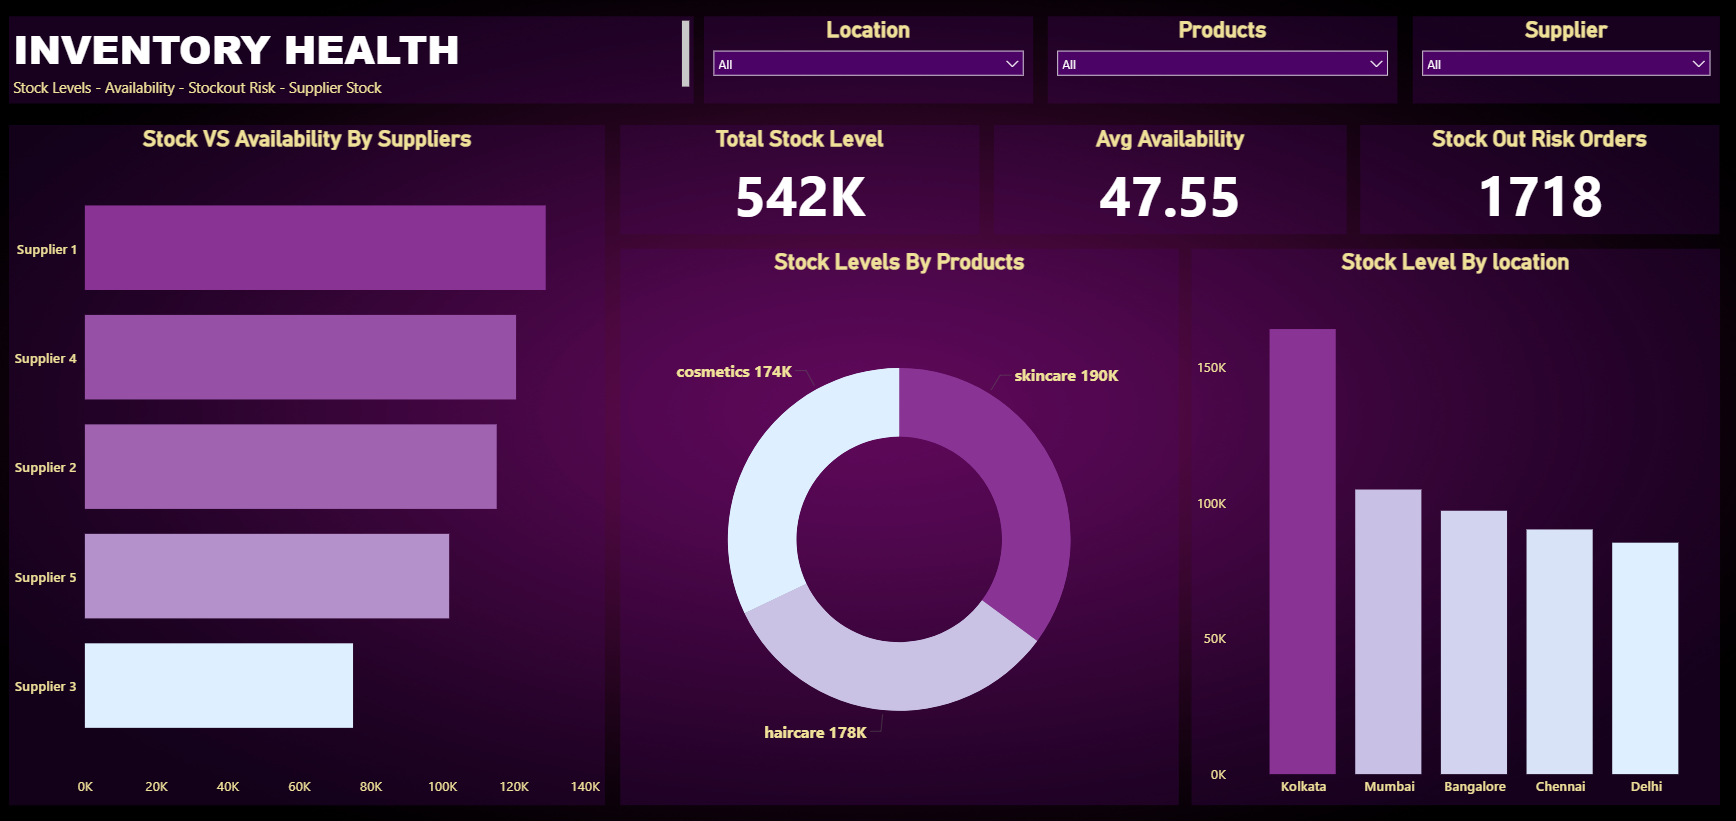

What the dashboard file says about the page in this screenshot:
{"tool":"powerbi","page":{"name":"INVENTORY HEALTH","canvas":[1900,900],"ordinal":3},"visuals":[{"type":"textbox","box":[10.4,17.3,747.4,94.9],"z":0},{"type":"card","title":"Total Stock Level","fields":{"Values":["Sum(inventory.STOCK_LEVELS)"]},"box":[678.3,136.4,391.8,119.1],"z":1000},{"type":"card","title":"Avg Availability","fields":{"Values":["Avg(inventory.AVAILABILITY)"]},"box":[1085.7,136.4,384.9,119.1],"z":2000},{"type":"card","title":"Stock Out Risk Orders","fields":{"Values":["inventory.Stockout Risk Orders"]},"box":[1486.1,136.4,391.8,119.1],"z":3000},{"type":"barChart","title":"Stock  VS Availability By Suppliers","fields":{"Category":["suppliers.SUPPLIER_NAME"],"Y":["Sum(inventory.STOCK_LEVELS)"]},"box":[10.4,136.4,650.7,742.2],"z":4000},{"type":"donutChart","title":"Stock Levels By Products","fields":{"Category":["products.PRODUCT_TYPE"],"Y":["Sum(inventory.STOCK_LEVELS)"]},"box":[678.3,271,609.3,607.6],"z":5000},{"type":"columnChart","title":"Stock Level By location","fields":{"Category":["suppliers.WAREHOUSE_LOCATION"],"Y":["Sum(inventory.STOCK_LEVELS)"]},"box":[1301.4,271,576.5,607.6],"z":6000},{"type":"slicer","title":"Location","fields":{"Values":["suppliers.WAREHOUSE_LOCATION"]},"box":[769.8,17.3,359,94.9],"z":7000},{"type":"slicer","title":"Products","fields":{"Values":["products.PRODUCT_TYPE"]},"box":[1144.4,17.3,381.5,94.9],"z":8000},{"type":"slicer","title":"Supplier","fields":{"Values":["suppliers.SUPPLIER_NAME"]},"box":[1543.1,17.3,334.8,94.9],"z":9000}]}

Visuals, with their boxes in screenshot pixels (x1, y1, x2, y2), scaled from the page's 1900x900 canvas onto the 1736x821 screenshot:
textbox: [x1=10, y1=16, x2=692, y2=102]
"Total Stock Level" card: [x1=620, y1=124, x2=978, y2=233]
"Avg Availability" card: [x1=992, y1=124, x2=1344, y2=233]
"Stock Out Risk Orders" card: [x1=1358, y1=124, x2=1716, y2=233]
"Stock  VS Availability By Suppliers" barChart: [x1=10, y1=124, x2=604, y2=801]
"Stock Levels By Products" donutChart: [x1=620, y1=247, x2=1176, y2=801]
"Stock Level By location" columnChart: [x1=1189, y1=247, x2=1716, y2=801]
"Location" slicer: [x1=703, y1=16, x2=1031, y2=102]
"Products" slicer: [x1=1046, y1=16, x2=1394, y2=102]
"Supplier" slicer: [x1=1410, y1=16, x2=1716, y2=102]
